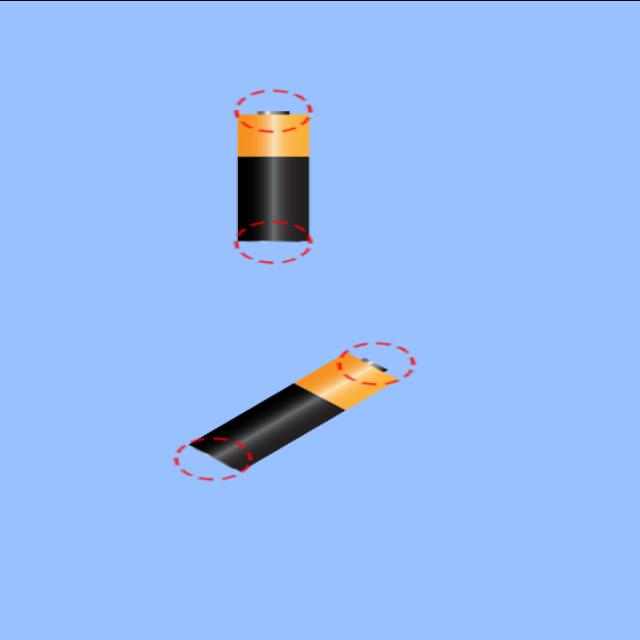Battery: (190, 351, 396, 469), (238, 110, 309, 240)
